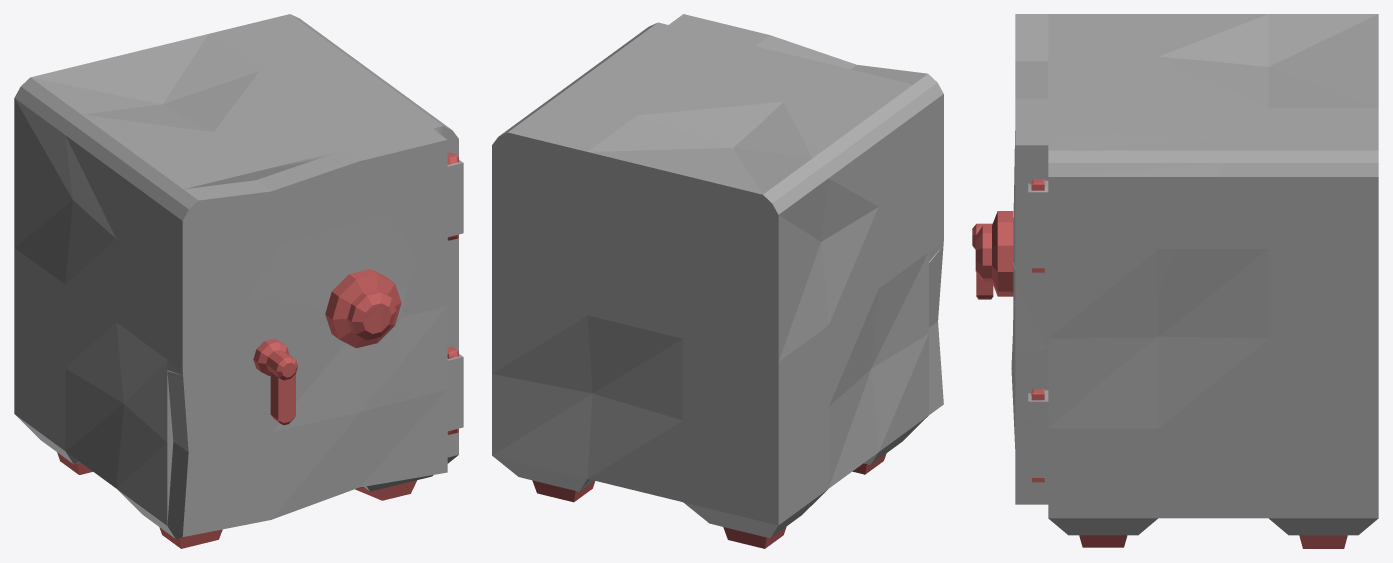
Rendered from Coffre_Fractured.fbx.
The picture shows the model from 3 angles, left to right: view 1: azimuth 30°, elevation 25°; view 2: azimuth 150°, elevation 25°; view 3: azimuth 270°, elevation 25°; orthographic projection. The views are drawn at different scales.
Visible parts, largest first — view 1: Box001, Box001_cell.025, Box001_cell.035, Box001_cell.034, Box001_cell.038, Box001_cell.032, Box001_cell.002, Box001_cell.012, Box001_cell.036, Box001_cell.027, Box001_cell.020, Box001_cell.018 (+8 smaller); view 2: Box001, Box001_cell.035, Box001_cell.020, Box001_cell.038, Box001_cell.025, Box001_cell.034, Box001_cell.023, Box001_cell.031; view 3: Box001, Box001_cell.031, Box001_cell.035, Box001_cell.038, Box001_cell.002, Box001_cell.022, Box001_cell.016, Box001_cell.009, Box001_cell.015, Box001_cell.006, Box001_cell.020, Box001_cell.012 (+10 smaller).
Part boxes in pixels (bbox=[...]): Box001: bbox=[14, 14, 463, 538]; Box001_cell.025: bbox=[73, 300, 400, 548]; Box001_cell.035: bbox=[14, 14, 305, 363]; Box001_cell.034: bbox=[81, 153, 278, 374]; Box001_cell.038: bbox=[195, 68, 409, 243]; Box001_cell.032: bbox=[249, 213, 416, 321]; Box001_cell.002: bbox=[341, 402, 458, 500]; Box001_cell.012: bbox=[397, 126, 463, 240]; Box001_cell.036: bbox=[398, 266, 447, 353]; Box001_cell.027: bbox=[323, 393, 441, 500]; Box001_cell.020: bbox=[14, 337, 84, 464]; Box001_cell.018: bbox=[388, 183, 460, 255]; Box001: bbox=[492, 14, 943, 548]; Box001_cell.035: bbox=[508, 100, 843, 393]; Box001_cell.020: bbox=[523, 277, 847, 525]; Box001_cell.038: bbox=[599, 23, 848, 118]; Box001_cell.025: bbox=[836, 246, 943, 474]; Box001_cell.034: bbox=[840, 94, 943, 359]; Box001_cell.023: bbox=[492, 430, 811, 548]; Box001_cell.031: bbox=[492, 83, 607, 183]; Box001: bbox=[975, 14, 1378, 547]; Box001_cell.031: bbox=[1159, 128, 1378, 427]; Box001_cell.035: bbox=[1199, 14, 1378, 151]; Box001_cell.038: bbox=[1015, 56, 1247, 137]; Box001_cell.002: bbox=[1014, 421, 1177, 547]; Box001_cell.022: bbox=[1133, 429, 1329, 537]; Box001_cell.016: bbox=[1028, 212, 1189, 303]; Box001_cell.009: bbox=[1048, 299, 1157, 387]; Box001_cell.015: bbox=[1048, 161, 1223, 224]; Box001_cell.006: bbox=[1340, 329, 1378, 489]; Box001_cell.020: bbox=[1248, 370, 1338, 484]; Box001_cell.012: bbox=[1015, 127, 1232, 268].
Bounding box in the file's own units: 55 × 67.72 × 61.49.
